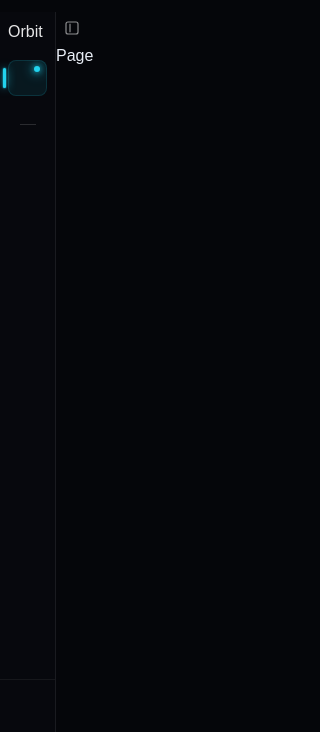
Test: Sidebar › shows a hover label with the badge on the rail
Hover over the 1st button named "Inbox" at {"x": 28, "y": 78}, box [8, 60, 47, 96]
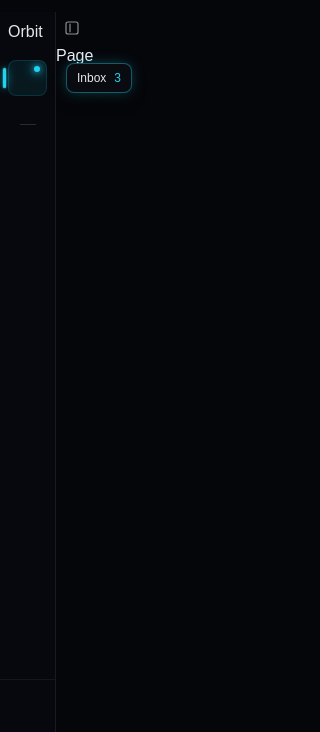
Check: the element showing "Inbox 3" is shown, box [66, 78, 132, 108]
